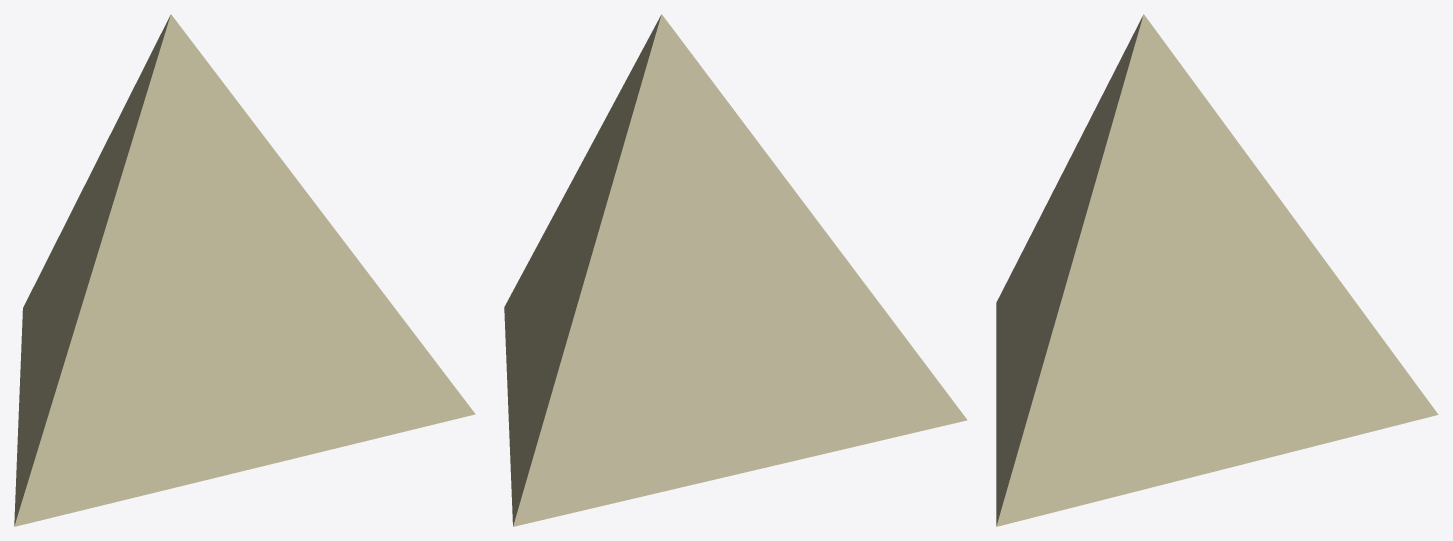
Rendered from Shape_TriPyramid.FBX.
3 views of the same model, side by side, from view 1: azimuth 30°, elevation 25°; view 2: azimuth 150°, elevation 25°; view 3: azimuth 270°, elevation 25° (orthographic).
Parts seen in each view (by area): view 1: Shape_TriPyramid; view 2: Shape_TriPyramid; view 3: Shape_TriPyramid.
Boxes of the visible parts, bbox=[...] form: Shape_TriPyramid: bbox=[14, 14, 475, 526]; Shape_TriPyramid: bbox=[504, 14, 967, 526]; Shape_TriPyramid: bbox=[996, 14, 1438, 526].
Bounding box in the file's own units: 120 × 100 × 100.
